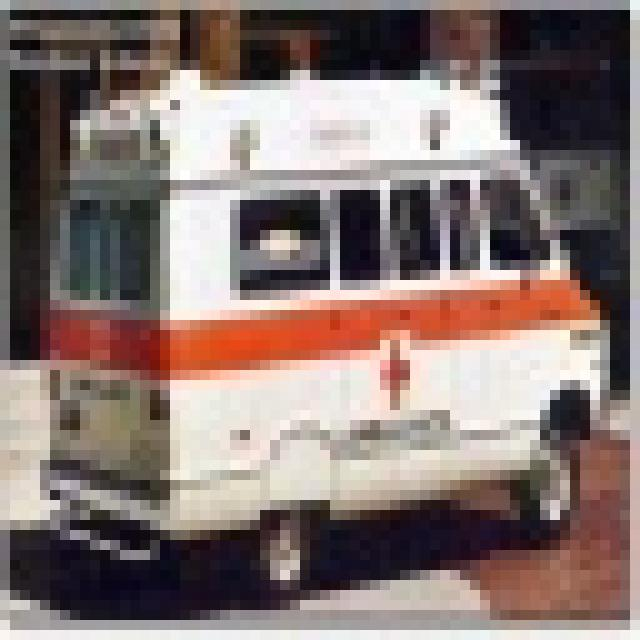Ambulance: (30, 50, 610, 590)
